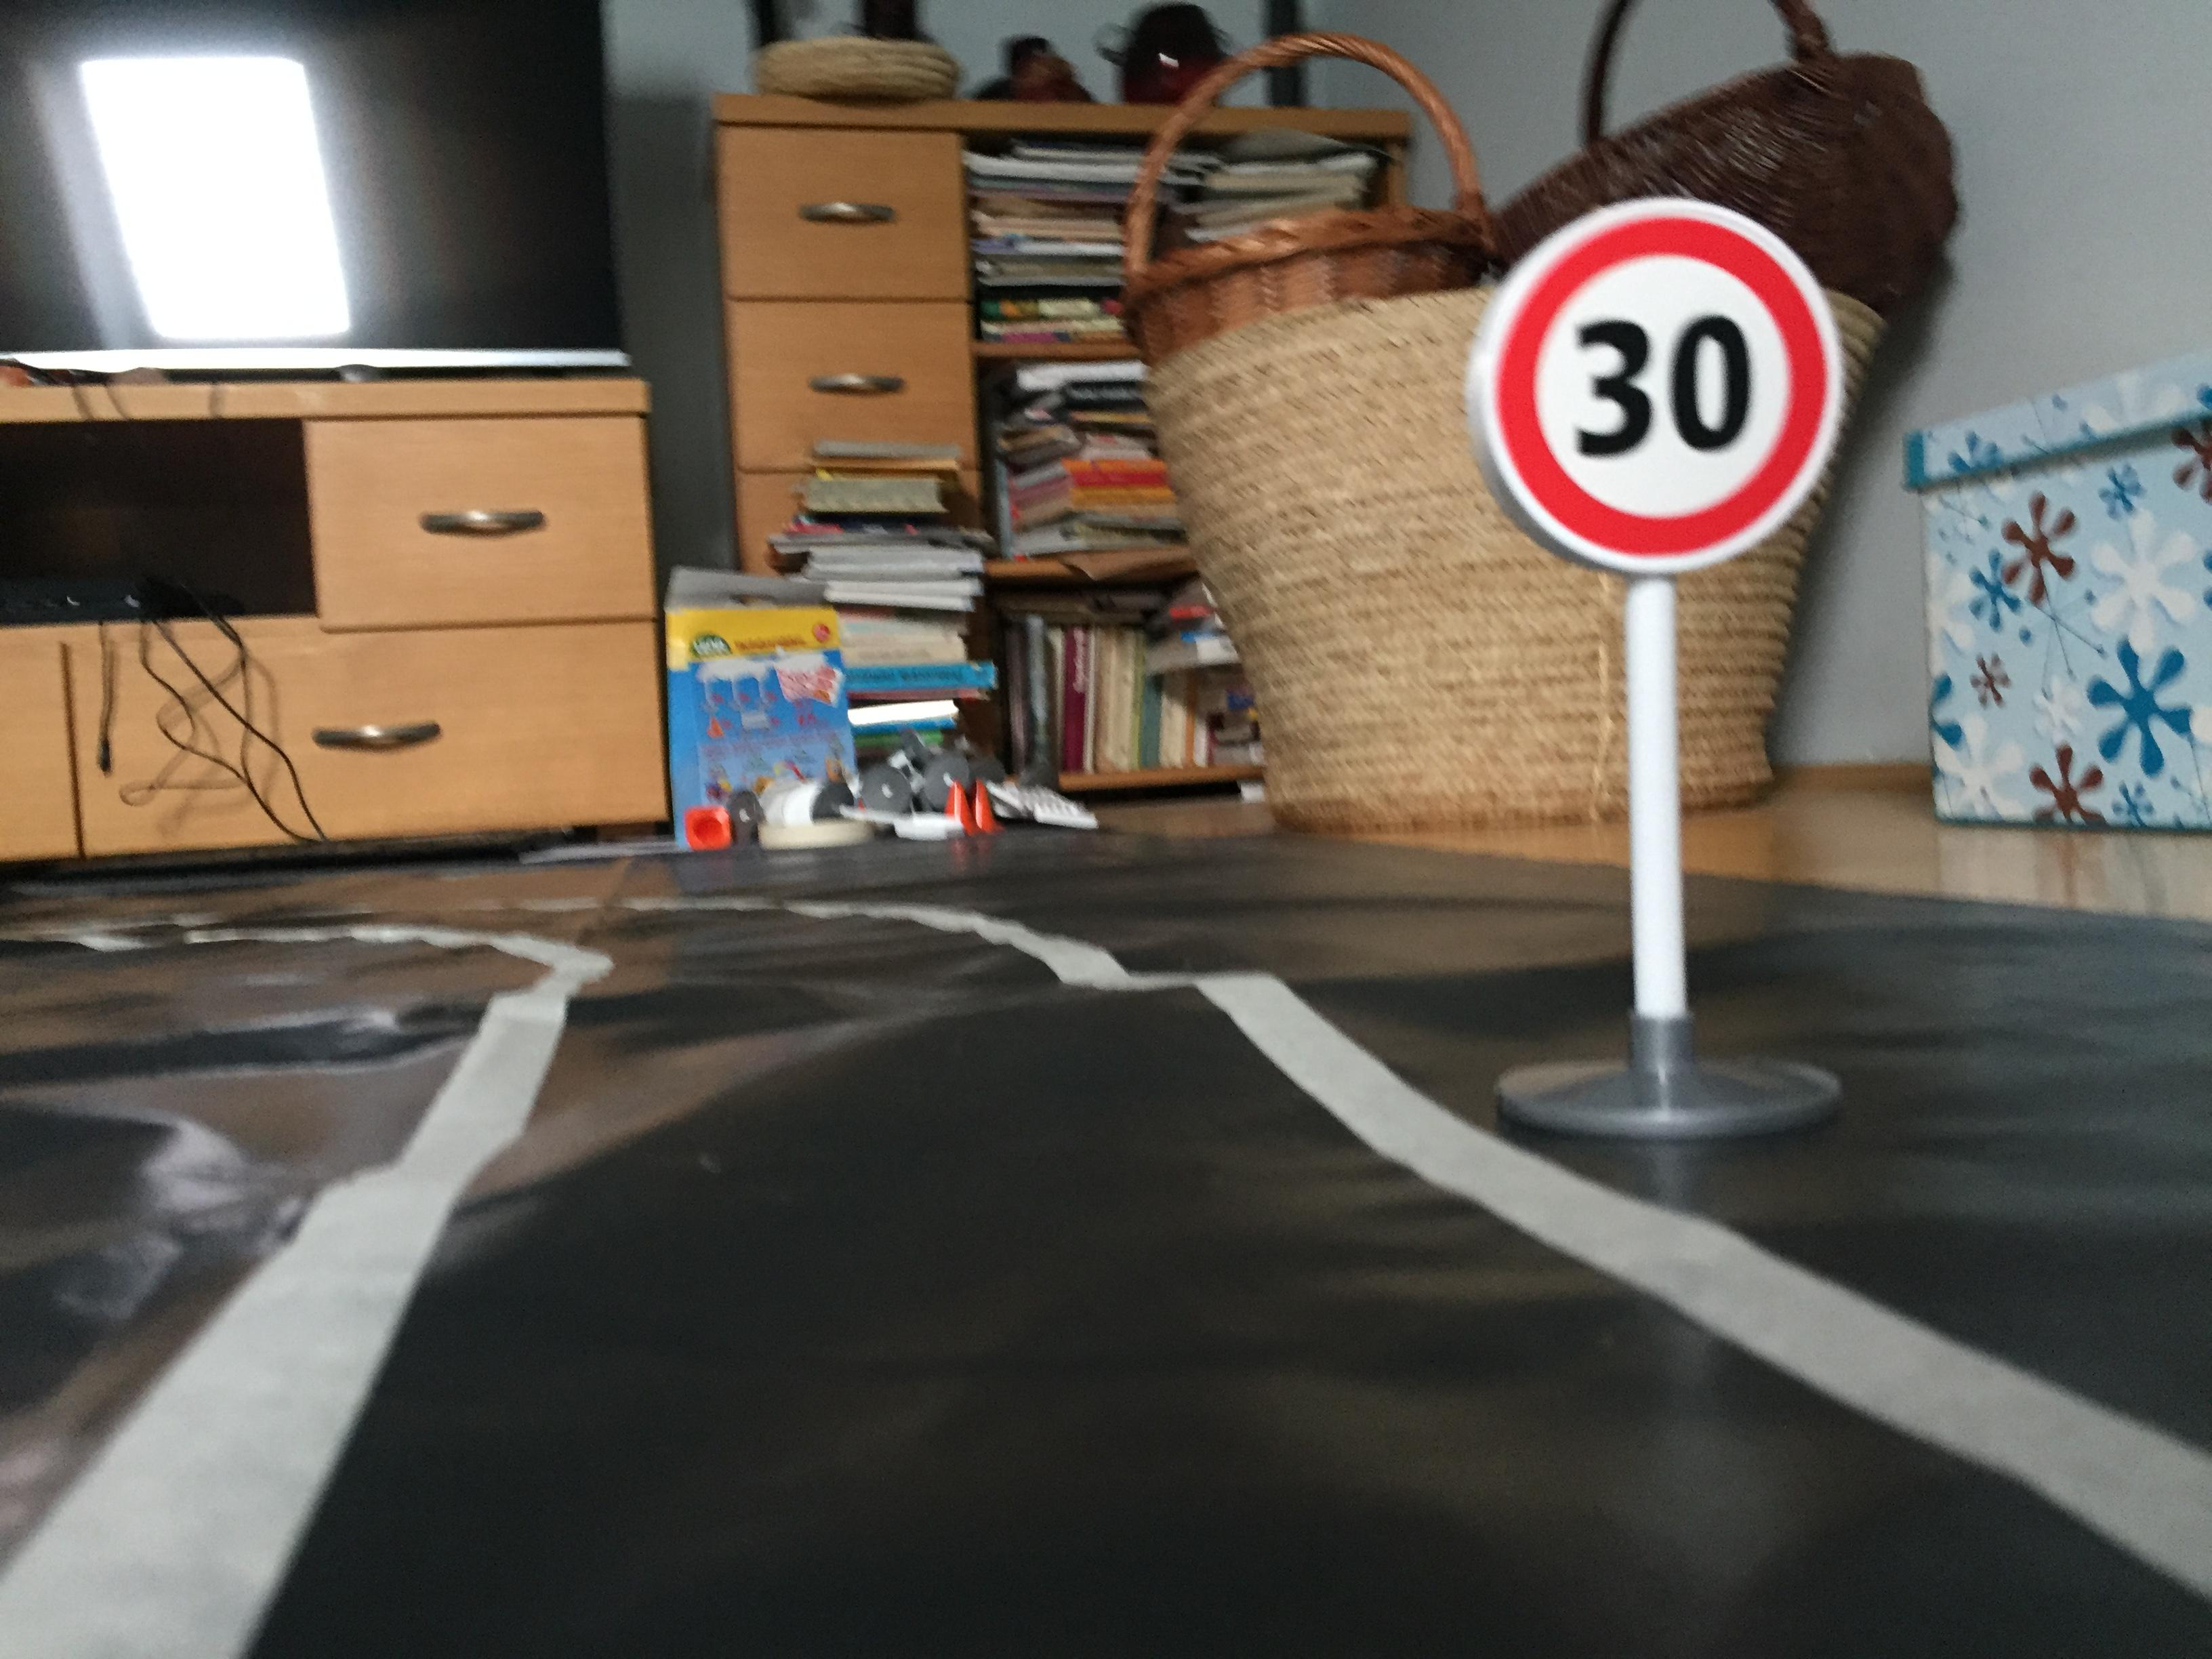speed: (1449, 186, 1851, 598)
